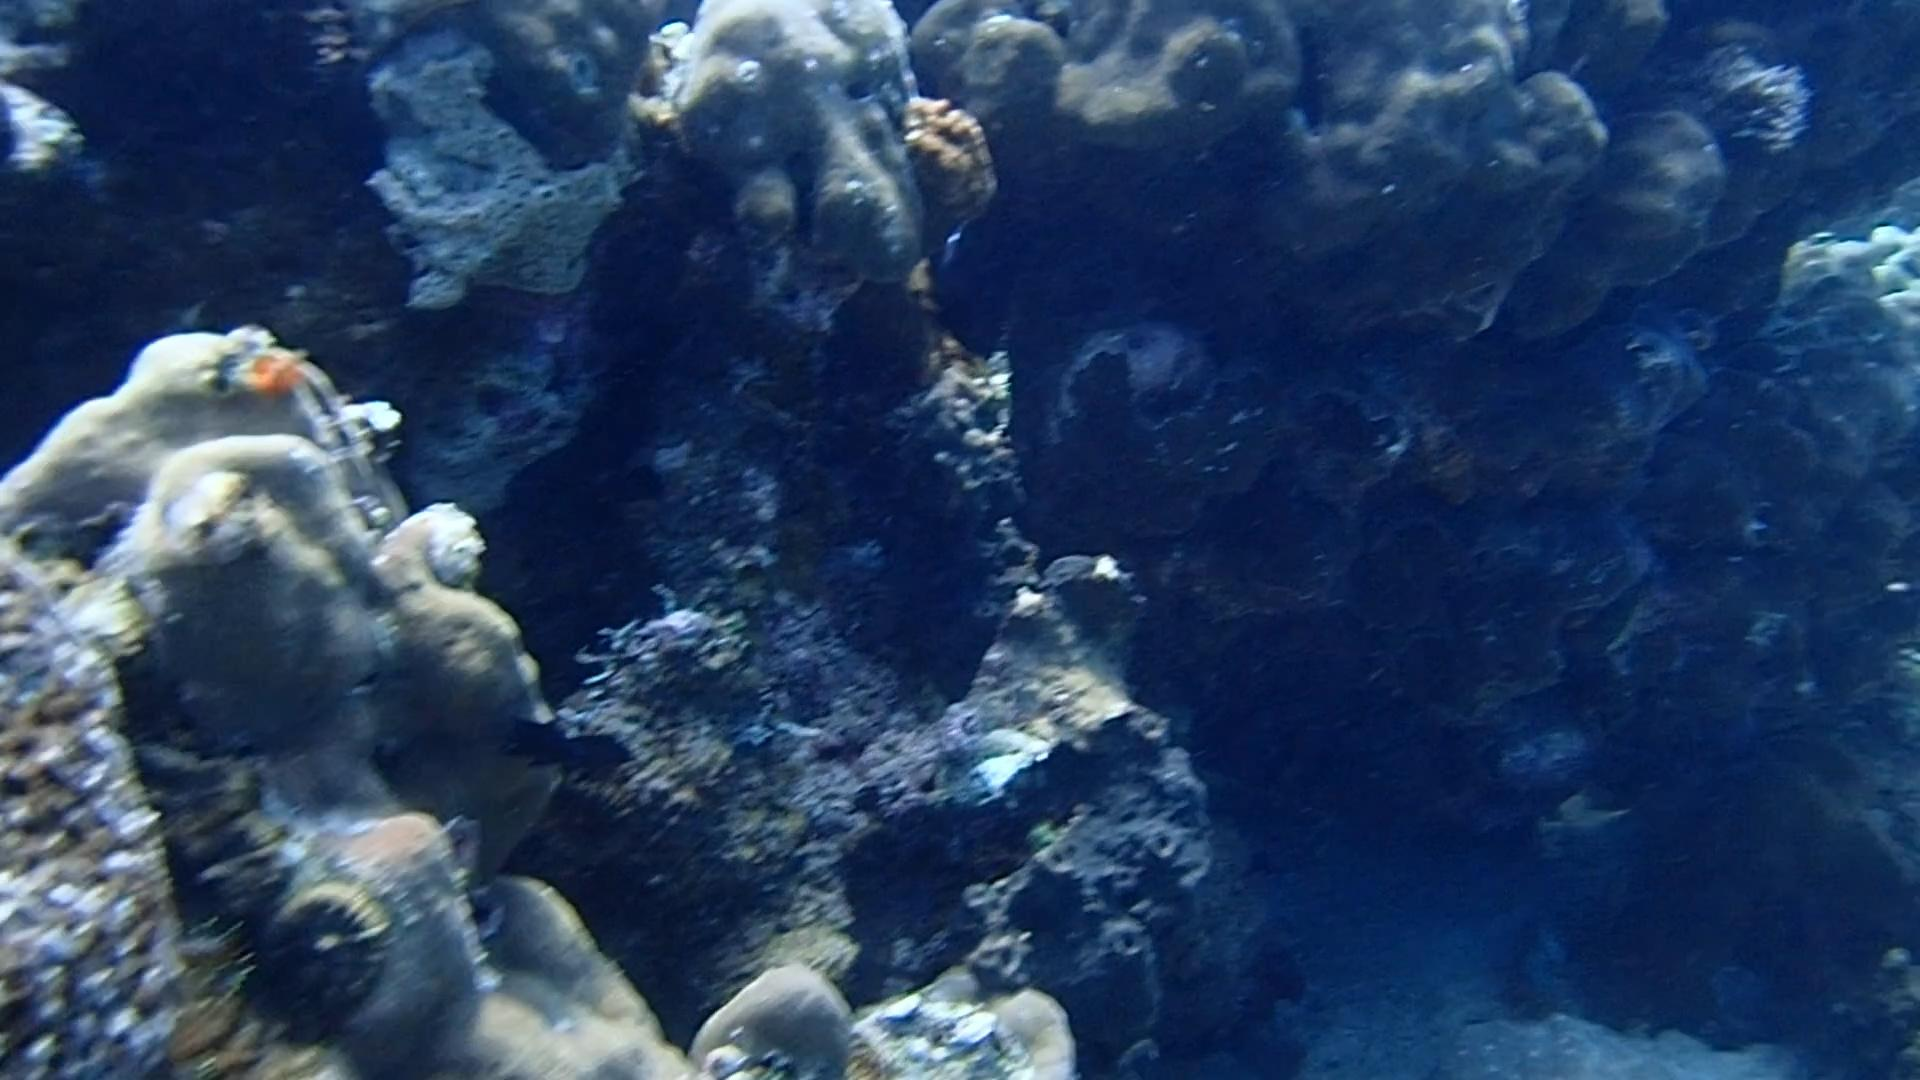Dark Fish: (500, 707, 593, 786), (550, 725, 644, 782)
